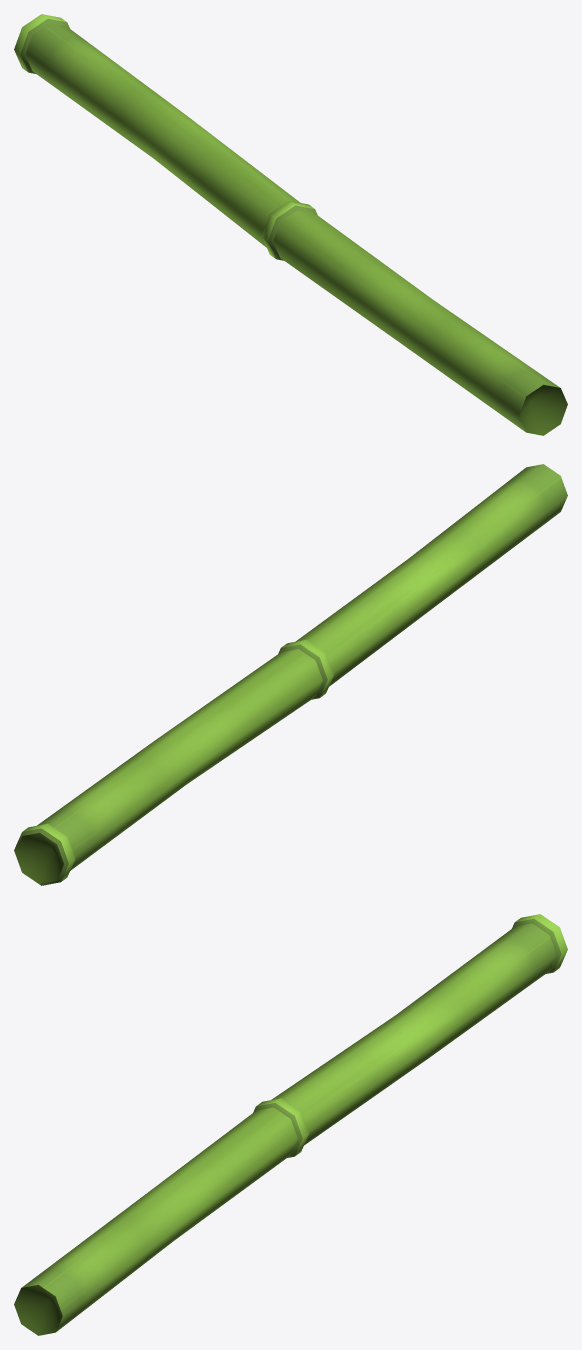
File: bamboo_pole_2.fbx
3 renders of one model, top to bottom at view 1: azimuth 30°, elevation 25°; view 2: azimuth 150°, elevation 25°; view 3: azimuth 330°, elevation 25°, orthographic.
Visible parts, largest first — view 1: Cylinder.021; view 2: Cylinder.021; view 3: Cylinder.021.
Part boxes in pixels (bbox=[...]): Cylinder.021: bbox=[14, 14, 567, 435]; Cylinder.021: bbox=[14, 464, 567, 885]; Cylinder.021: bbox=[14, 914, 567, 1335].
Size of the model in its own units: 69.75 by 63.43 by 1005.
